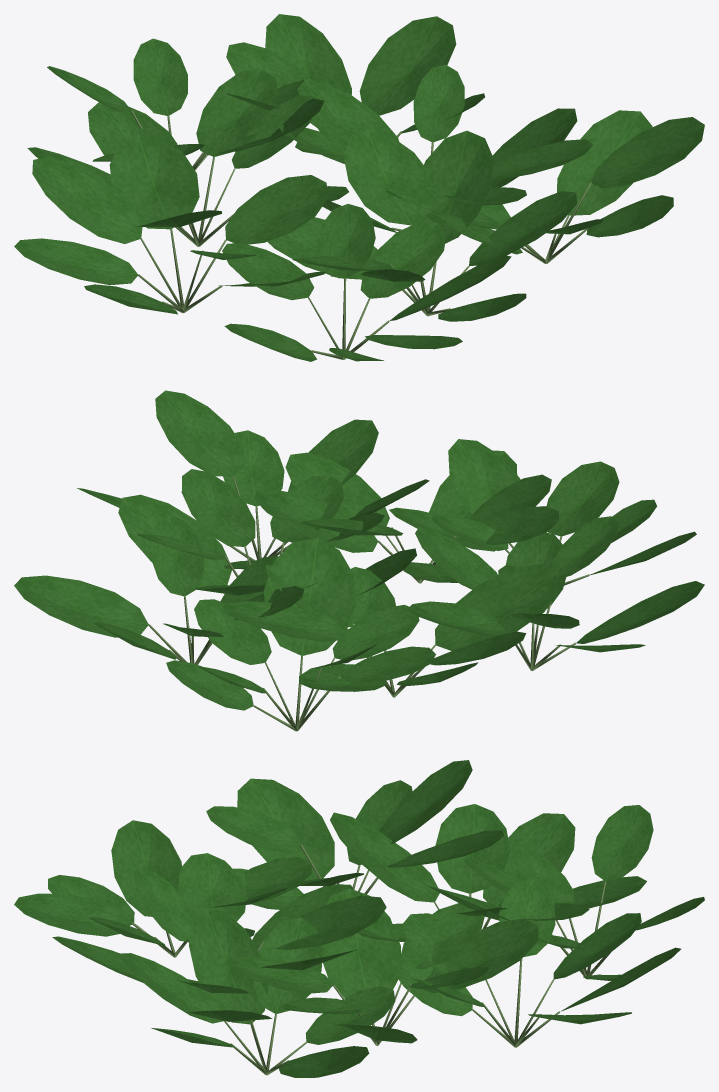
File: Woodland_Forb_Rosette_01_LOD1.fbx
3 views of the same model, one above another, from view 1: azimuth 30°, elevation 25°; view 2: azimuth 150°, elevation 25°; view 3: azimuth 270°, elevation 25° (orthographic). The views are drawn at different scales.
Parts seen in each view (by area): view 1: Woodland_Forb_Rosette_01_LOD1_Mesh; view 2: Woodland_Forb_Rosette_01_LOD1_Mesh; view 3: Woodland_Forb_Rosette_01_LOD1_Mesh.
Part boxes in pixels (<box>): Woodland_Forb_Rosette_01_LOD1_Mesh: <box>14,14,704,361</box>; Woodland_Forb_Rosette_01_LOD1_Mesh: <box>14,390,704,731</box>; Woodland_Forb_Rosette_01_LOD1_Mesh: <box>14,760,704,1077</box>.
Size of the model in its own units: 69.43 by 14.23 by 70.74.
Materials: 2 (1 with a texture image).
